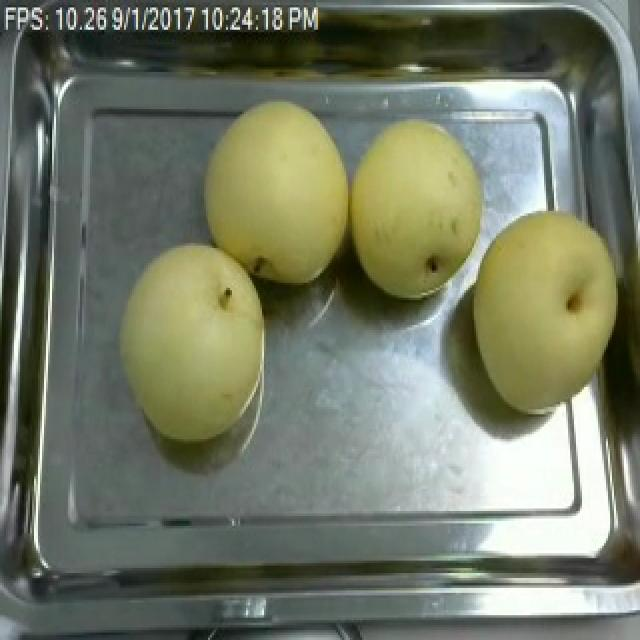Fruit: (456, 196, 634, 422), (110, 233, 276, 449), (194, 92, 360, 290), (340, 107, 498, 310)
